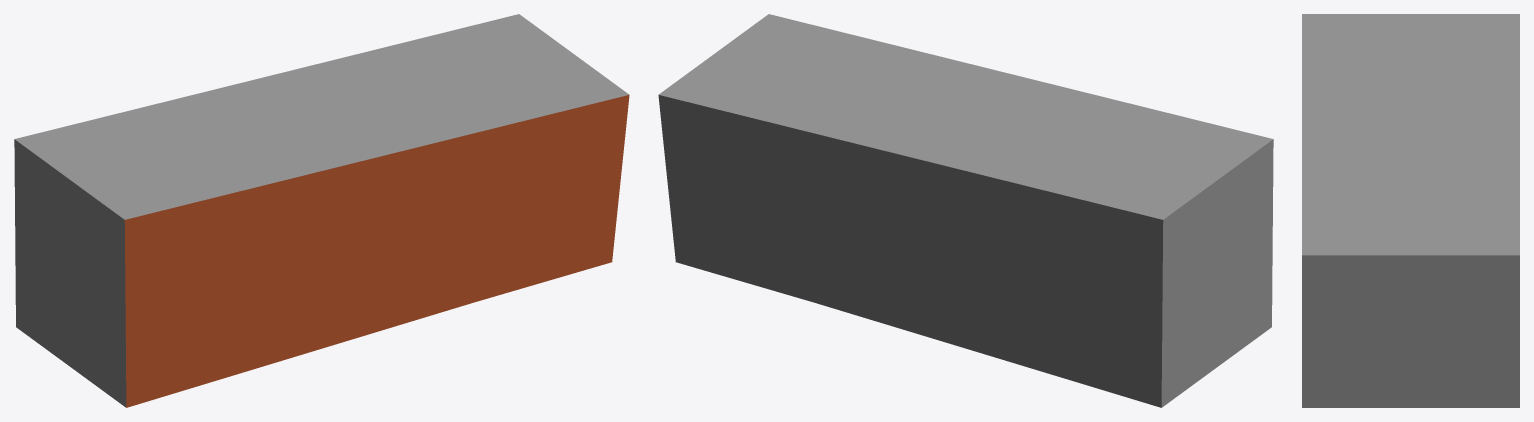
File: construction_4340_assumed_A_Casa_h6m.obj
3 views of the same model, side by side, from view 1: azimuth 30°, elevation 25°; view 2: azimuth 150°, elevation 25°; view 3: azimuth 270°, elevation 25° (orthographic).
Parts seen in each view (by area): view 1: construction_4340_assumed_A_Casa; view 2: construction_4340_assumed_A_Casa; view 3: construction_4340_assumed_A_Casa.
Part boxes in pixels (box(x1,y1,x2,y2)): construction_4340_assumed_A_Casa: box(14, 14, 629, 407); construction_4340_assumed_A_Casa: box(658, 14, 1273, 407); construction_4340_assumed_A_Casa: box(1302, 14, 1519, 407).
Size of the model in its own units: 15.84 by 5.71 by 6.
